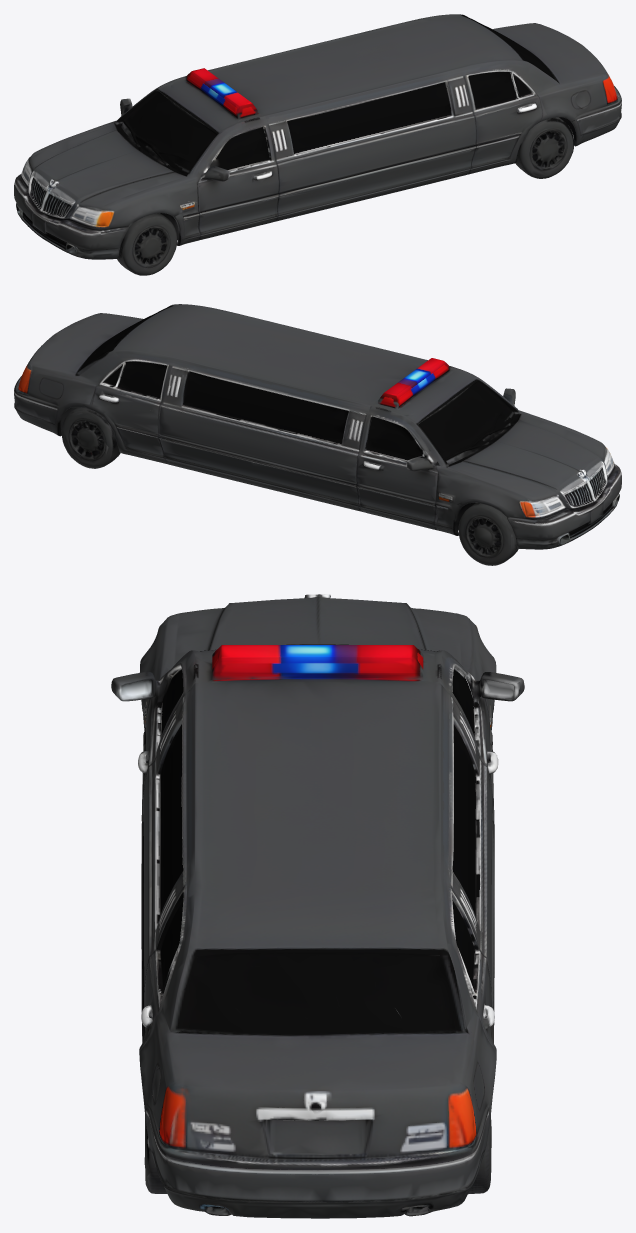
3 views of the same model, one above another, from view 1: azimuth 30°, elevation 25°; view 2: azimuth 150°, elevation 25°; view 3: azimuth 270°, elevation 25° (orthographic). The views are drawn at different scales.
Parts seen in each view (by area): view 1: node_0; view 2: node_0; view 3: node_0.
Part boxes in pixels (left/top/right/bottom): node_0: left=14, top=14, right=621, bottom=275; node_0: left=14, top=304, right=621, bottom=565; node_0: left=111, top=594, right=524, bottom=1218.
Size of the model in its own units: 1.19 by 0.2653 by 0.3815.
Materials: 1 (1 with a texture image).
